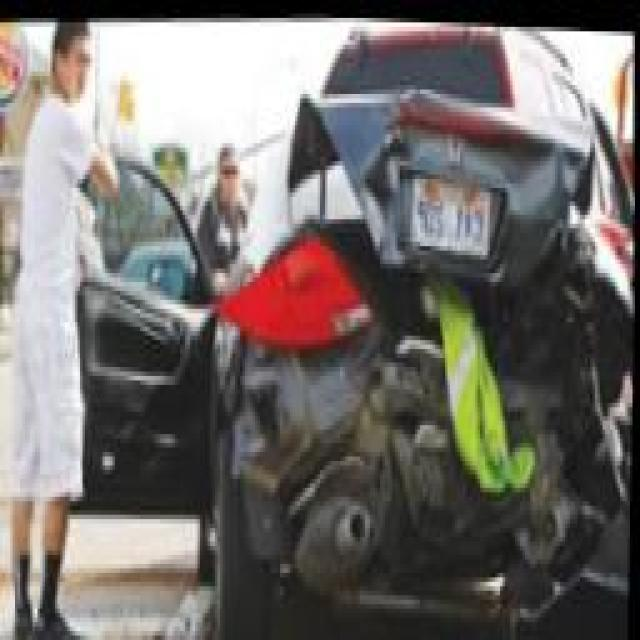Bumper: (235, 331, 634, 623)
Dickey: (286, 96, 633, 361)
Light: (211, 226, 378, 350)
